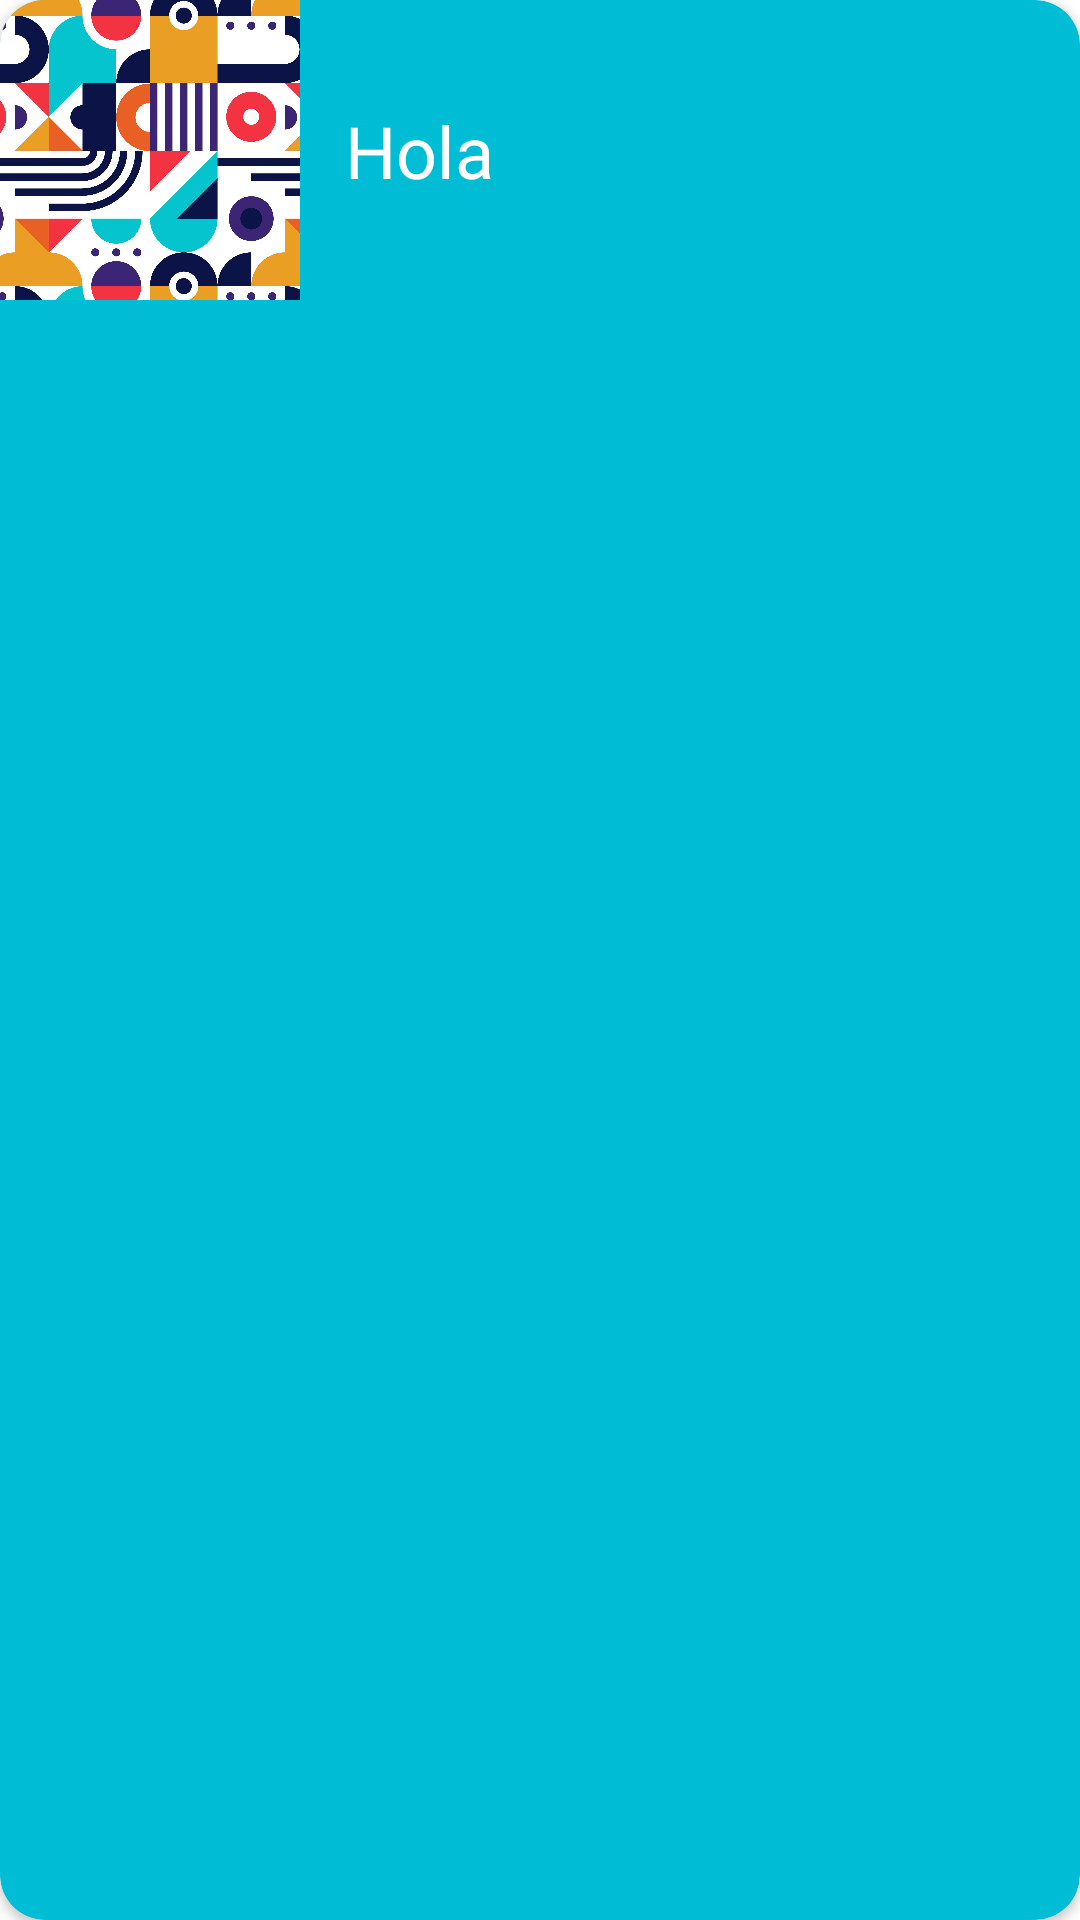

Named icons in this screenshot (1080px×1920px) and their bounding boxes, (x1, y1, x2, y2):
figuras: (0, 0, 300, 300)
